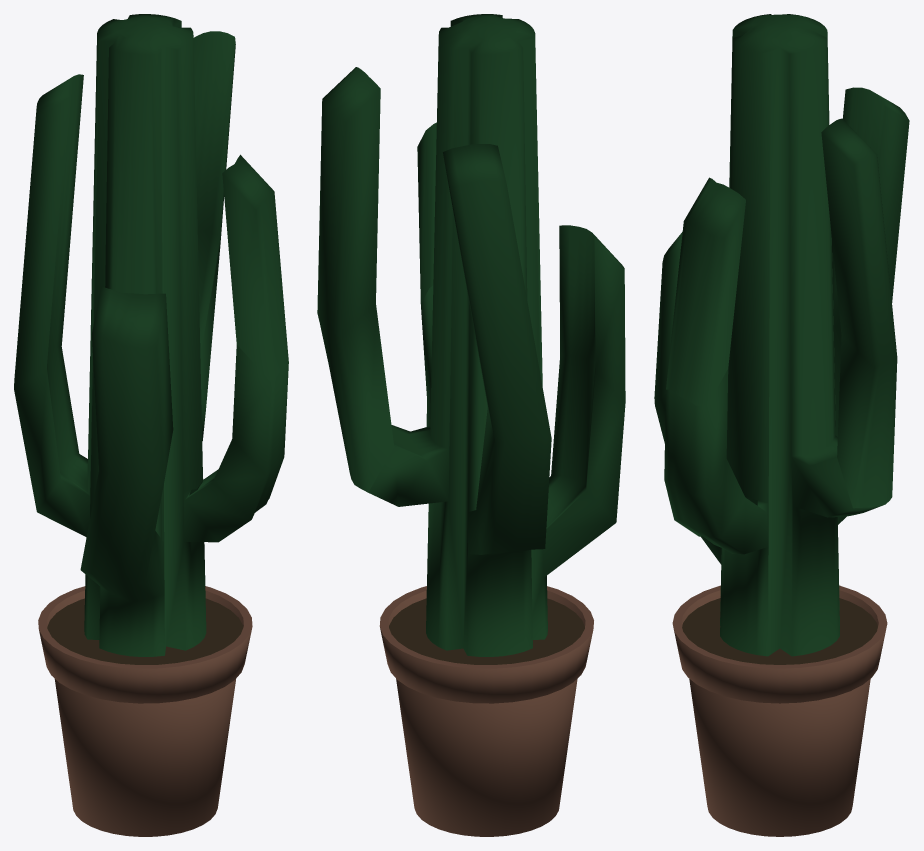
The model's file is cactus.fbx.
The picture shows the model from 3 angles, left to right: view 1: azimuth 30°, elevation 25°; view 2: azimuth 150°, elevation 25°; view 3: azimuth 270°, elevation 25°; orthographic projection.
Parts seen in each view (by area): view 1: Cylinder.001; view 2: Cylinder.001; view 3: Cylinder.001.
Boxes of the visible parts, bbox=[...] form: Cylinder.001: bbox=[14, 14, 288, 836]; Cylinder.001: bbox=[317, 14, 625, 836]; Cylinder.001: bbox=[654, 14, 909, 836].
Bounding box in the file's own units: 279 × 925 × 273.
